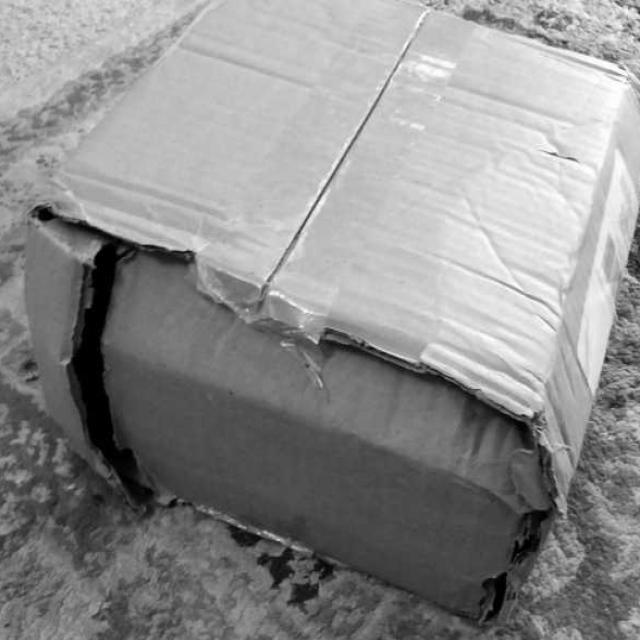hole: (49, 201, 203, 491)
